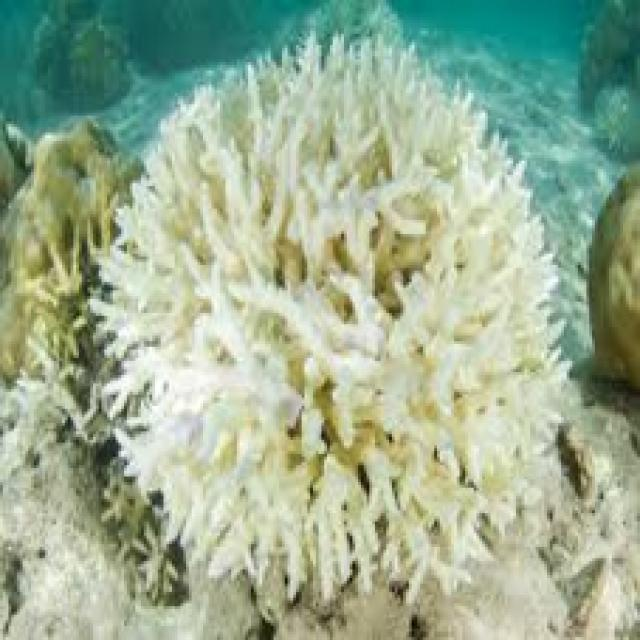Bleached: (110, 31, 568, 582), (1, 385, 121, 640), (555, 401, 640, 640), (416, 544, 576, 640), (108, 582, 269, 640), (261, 582, 416, 640)
Healthy: (1, 115, 110, 386), (584, 159, 640, 395), (85, 122, 145, 204)
